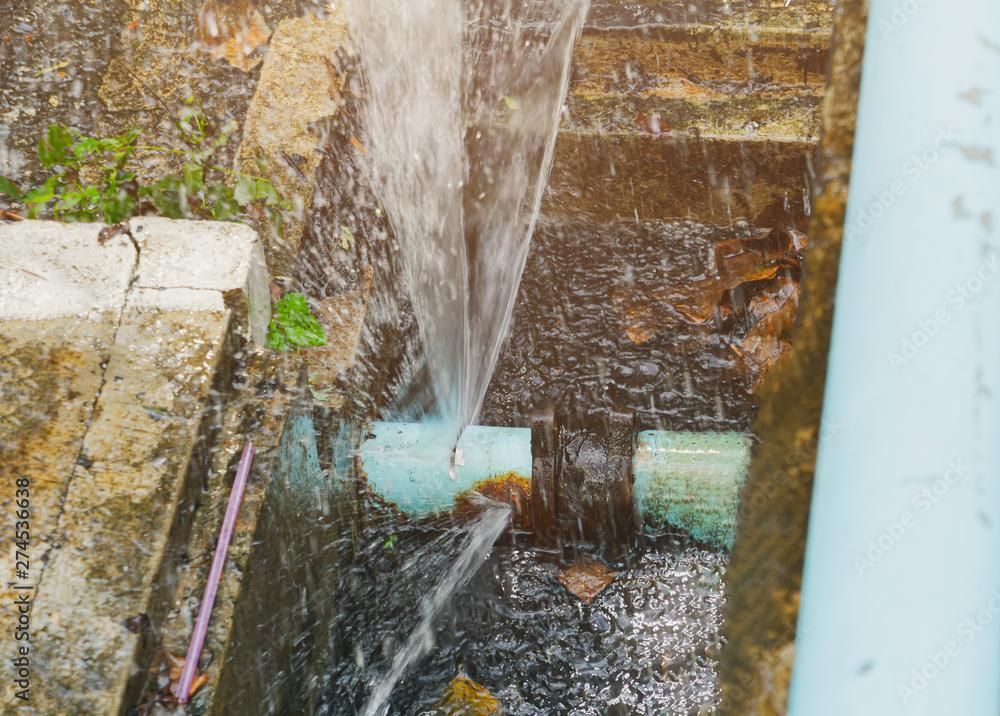pipe burst: (345, 0, 582, 479), (314, 494, 518, 714)
water accumulation: (307, 524, 726, 716), (483, 207, 796, 424)
